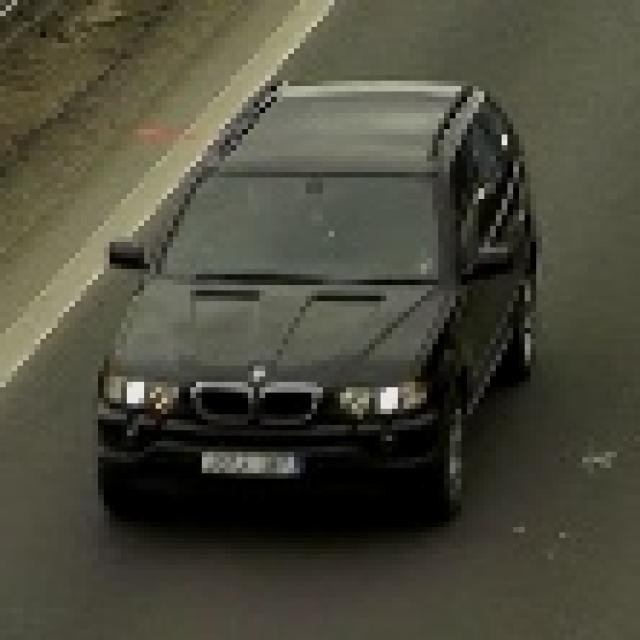SUV: (97, 72, 535, 529)
